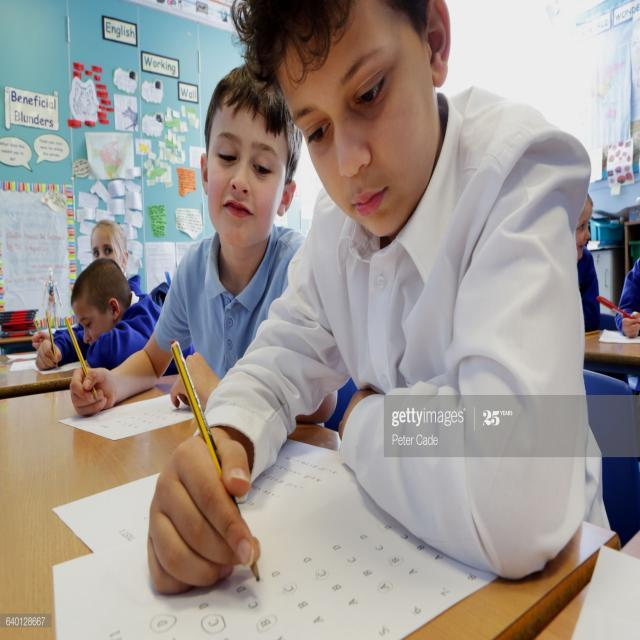cheating: (146, 56, 305, 377)
good: (269, 0, 592, 634)
